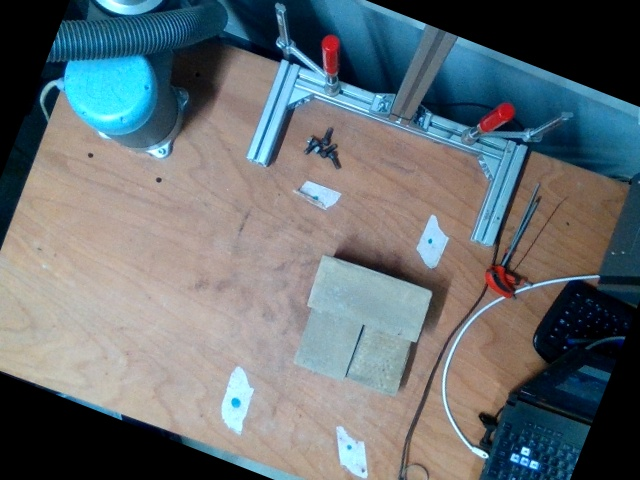brick: (306, 256, 431, 343)
